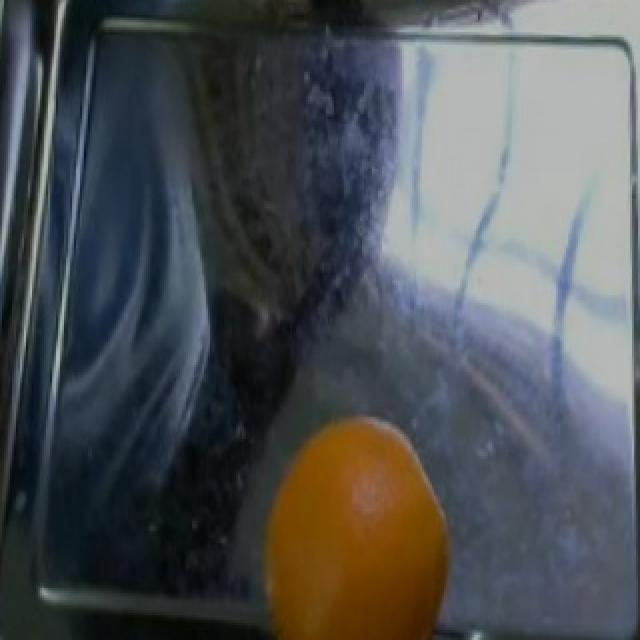Fruit: (246, 402, 462, 640)
